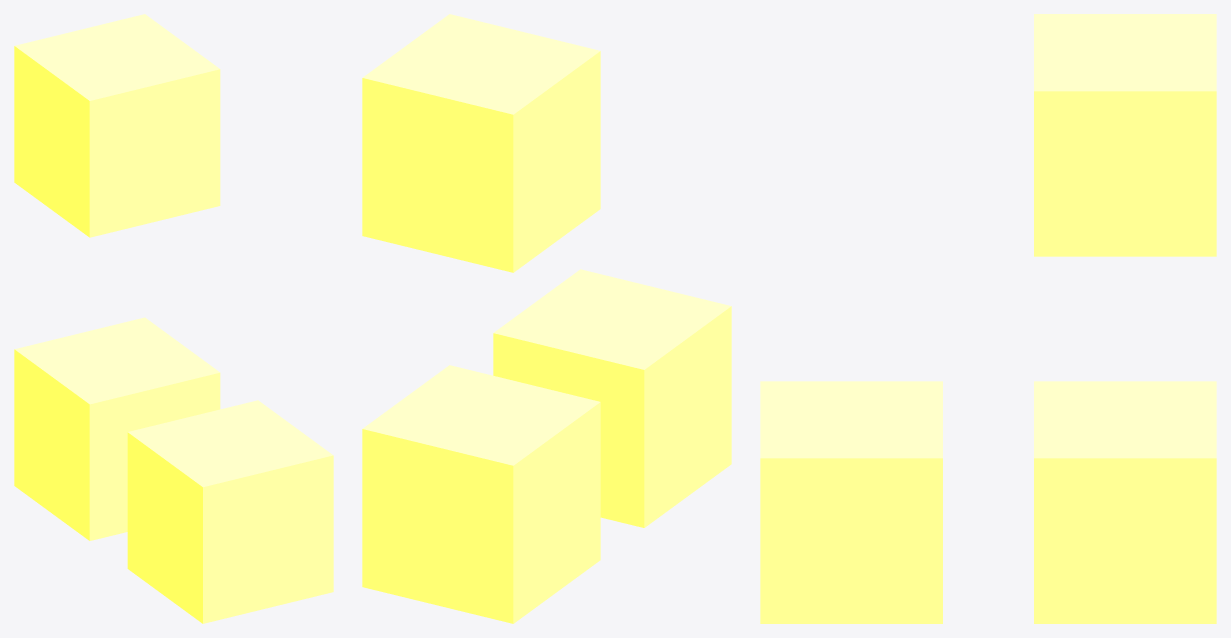
The picture shows the model from 3 angles, left to right: view 1: azimuth 30°, elevation 25°; view 2: azimuth 150°, elevation 25°; view 3: azimuth 270°, elevation 25°; orthographic projection. The views are drawn at different scales.
Visible parts, largest first — view 1: Cube, Cube.005, Cube.003; view 2: Cube.005, Cube.003, Cube; view 3: Cube, Cube.003, Cube.005.
Part boxes in pixels (x1,y1,x2,y2): Cube: (127,400,333,623); Cube.005: (14,14,220,237); Cube.003: (14,317,220,540); Cube.005: (362,14,600,272); Cube.003: (362,365,600,623); Cube: (493,269,731,527); Cube: (760,381,942,623); Cube.003: (1034,381,1216,623); Cube.005: (1034,14,1216,256).
Bounding box in the file's own units: 2 × 6.44 × 5.
